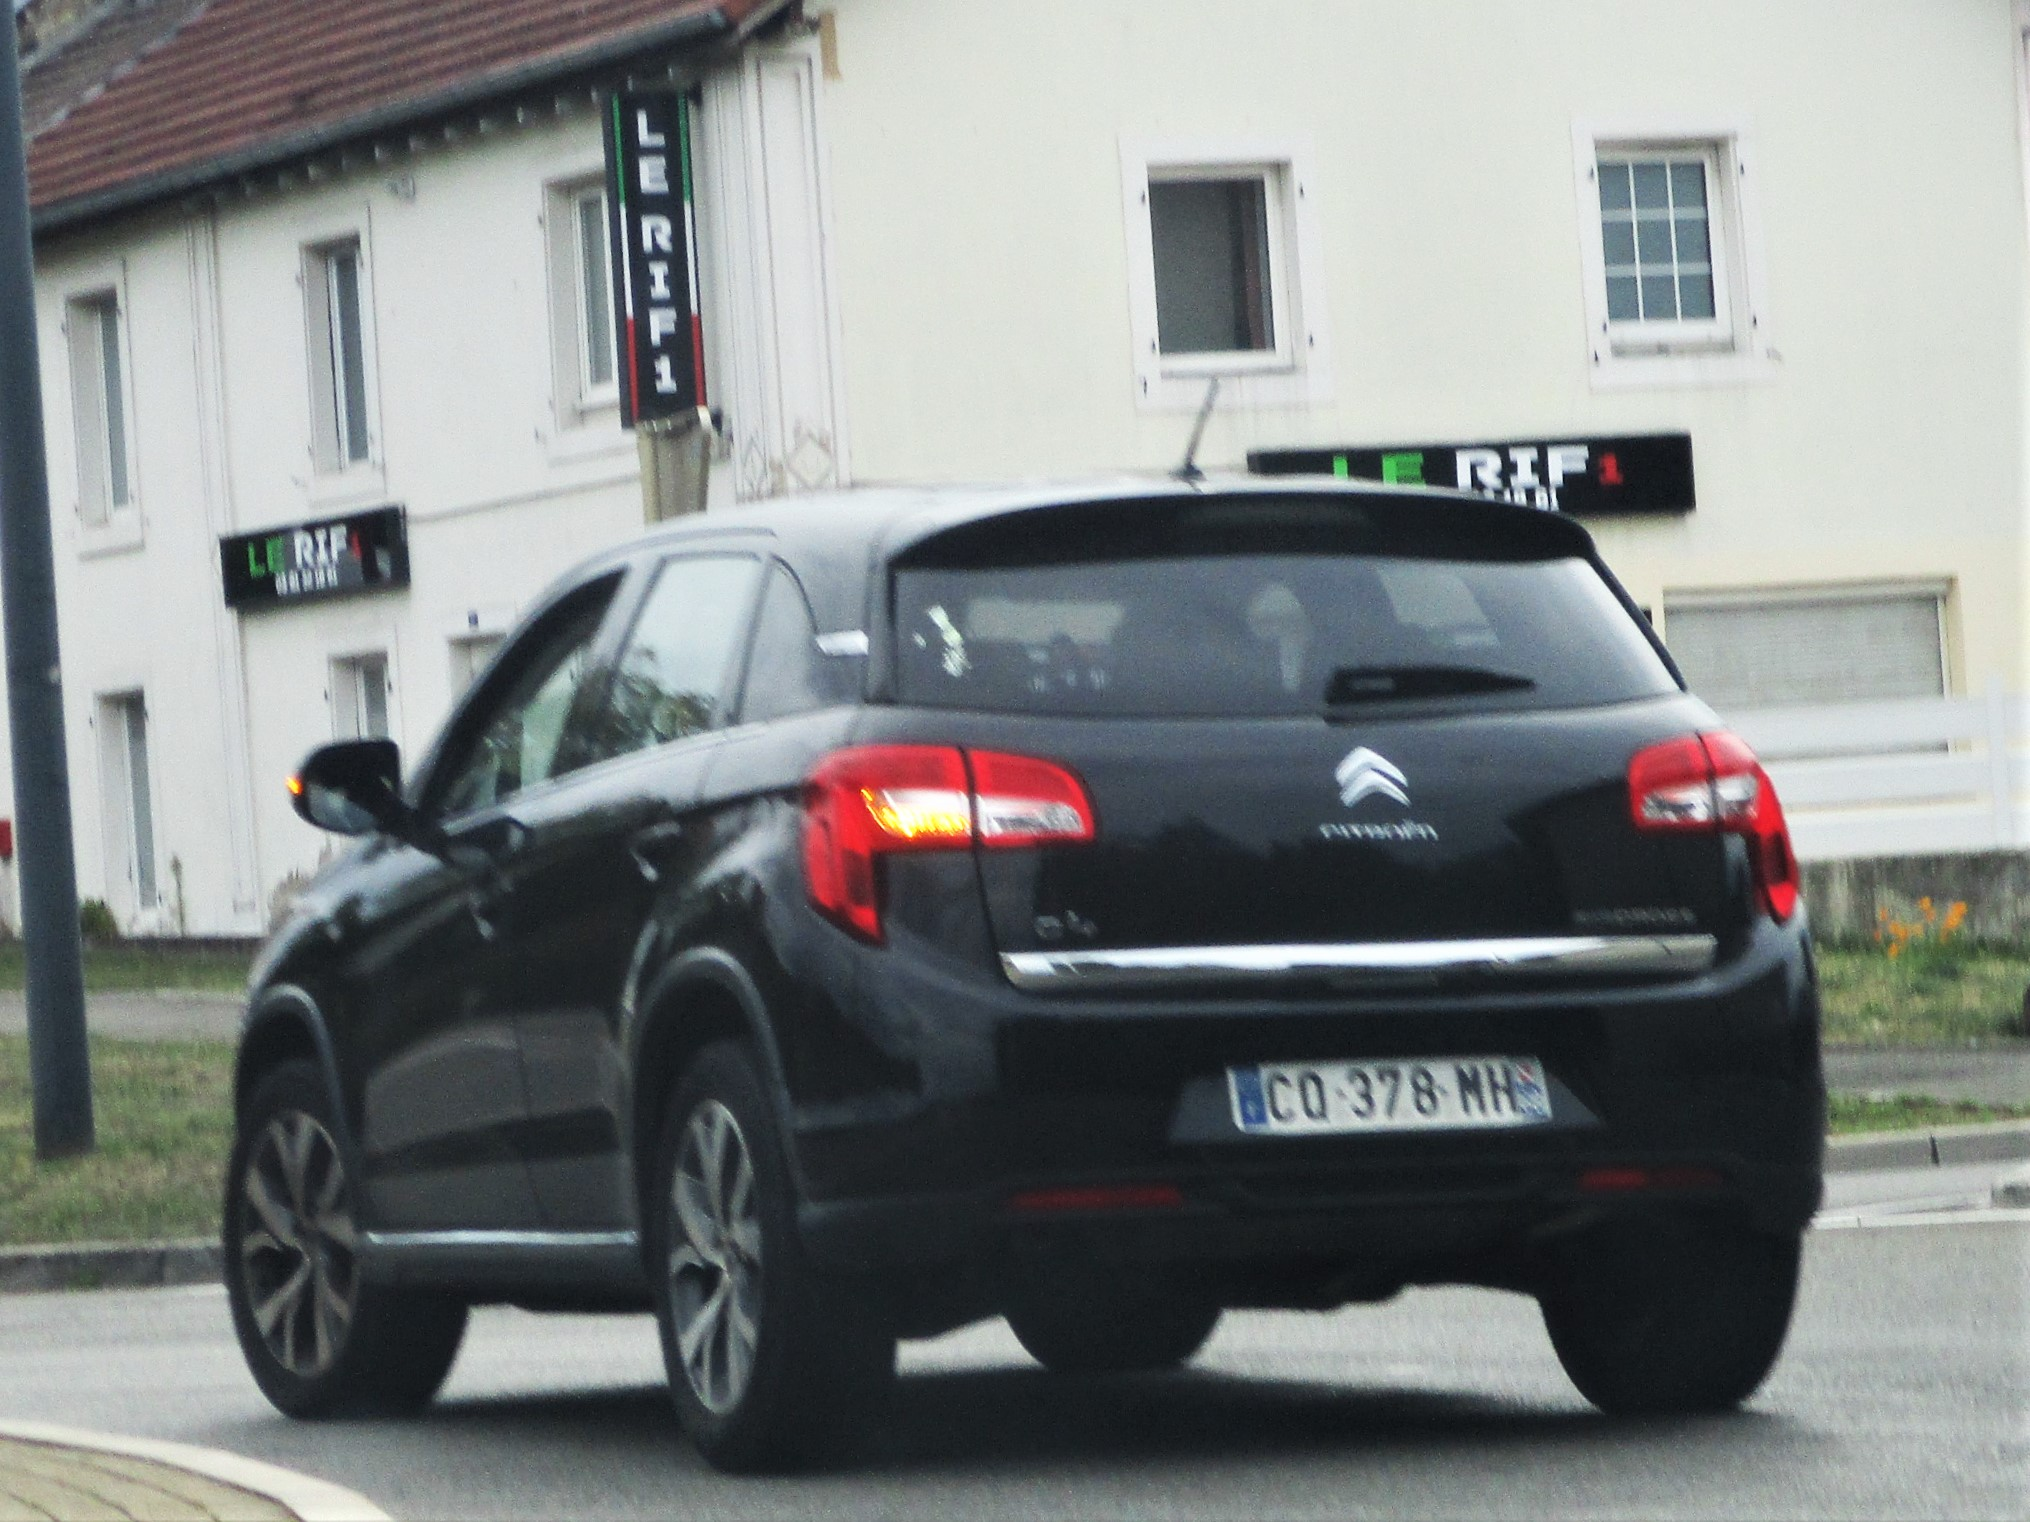licence plate: (1223, 1045, 1557, 1140)
